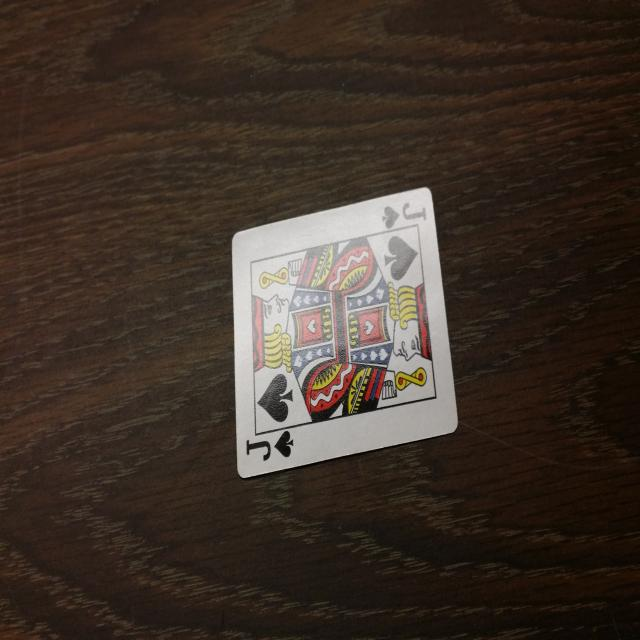Js: (378, 188, 442, 239), (238, 428, 302, 476)
